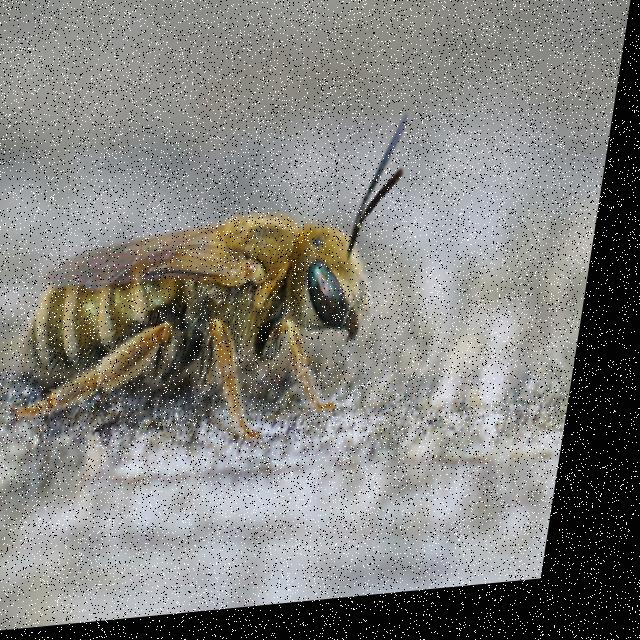Lasioglossum: (7, 137, 448, 509)
